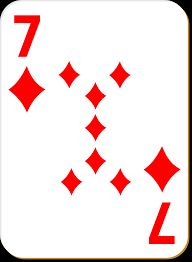seven of diamonds: (1, 1, 191, 259)
